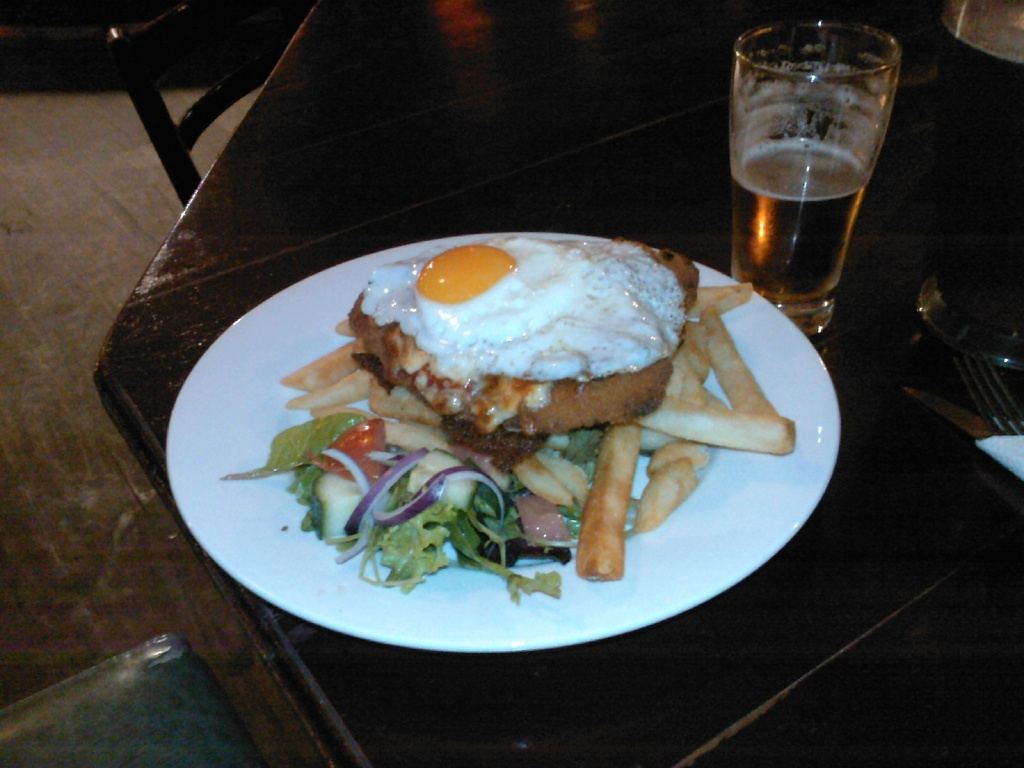French fries: (554, 316, 774, 538)
